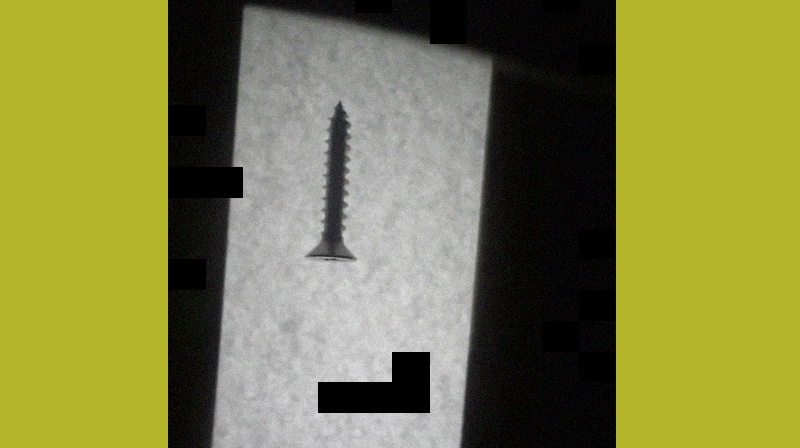S001: (304, 95, 356, 265)
